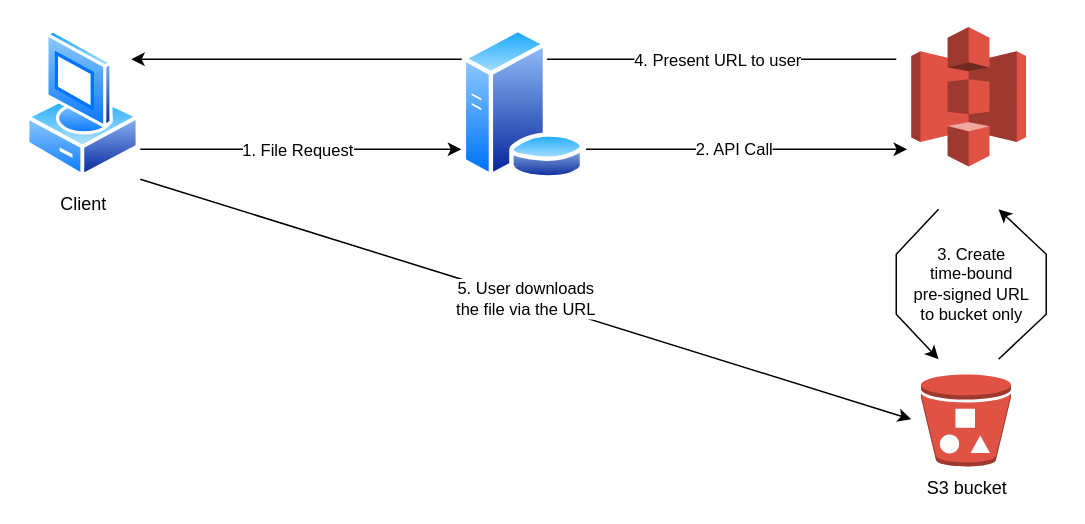
Some shapes in this 1085 by 524 pixel diagram are drawn without their labels. The centre of each missing label's shape, as x and y in pixels:
"Application server" belongs at point (522, 103).
"AWS S3" belongs at point (968, 96).
